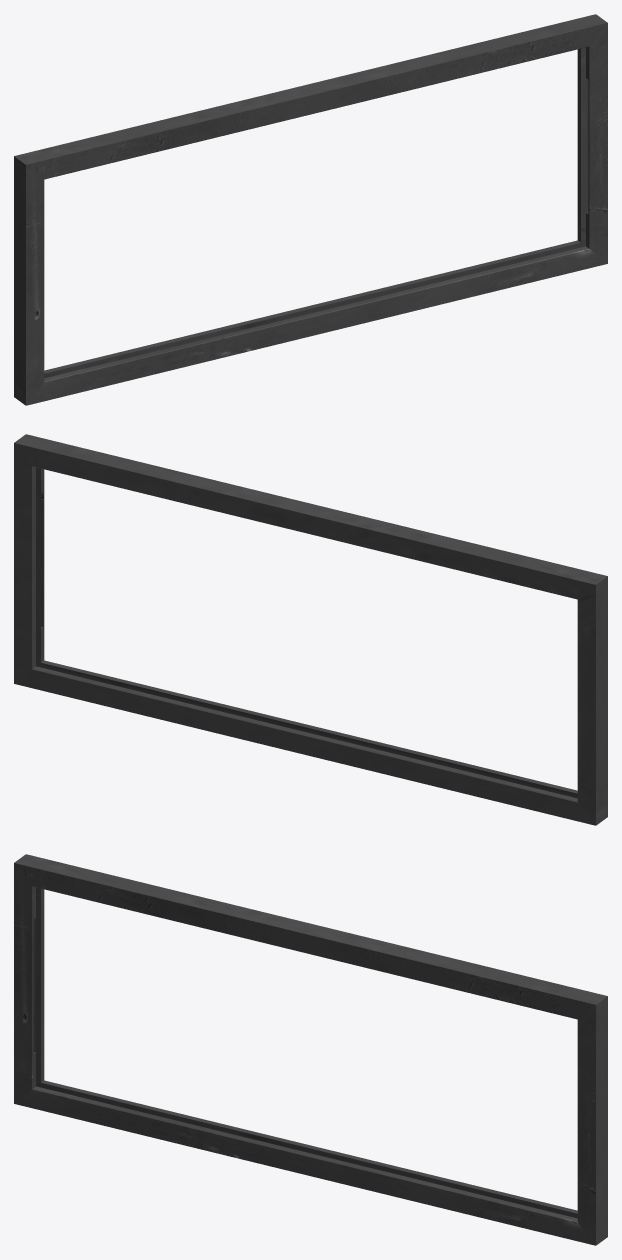
Rendered from marcometal.fbx.
3 renders of one model, top to bottom at view 1: azimuth 30°, elevation 25°; view 2: azimuth 150°, elevation 25°; view 3: azimuth 330°, elevation 25°, orthographic.
Parts seen in each view (by area): view 1: marcometal; view 2: marcometal; view 3: marcometal.
Boxes of the visible parts, x1,y1,x2,y2 form: marcometal: (14,14,607,405); marcometal: (14,434,607,825); marcometal: (14,854,607,1245).
Size of the model in its own units: 814 by 322 by 29.1.
